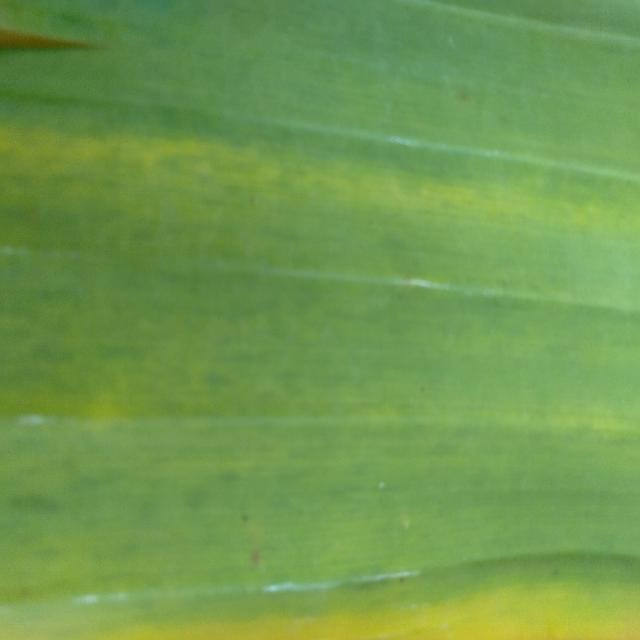Cordana: (1, 93, 639, 328), (0, 521, 640, 640), (0, 0, 117, 78)
